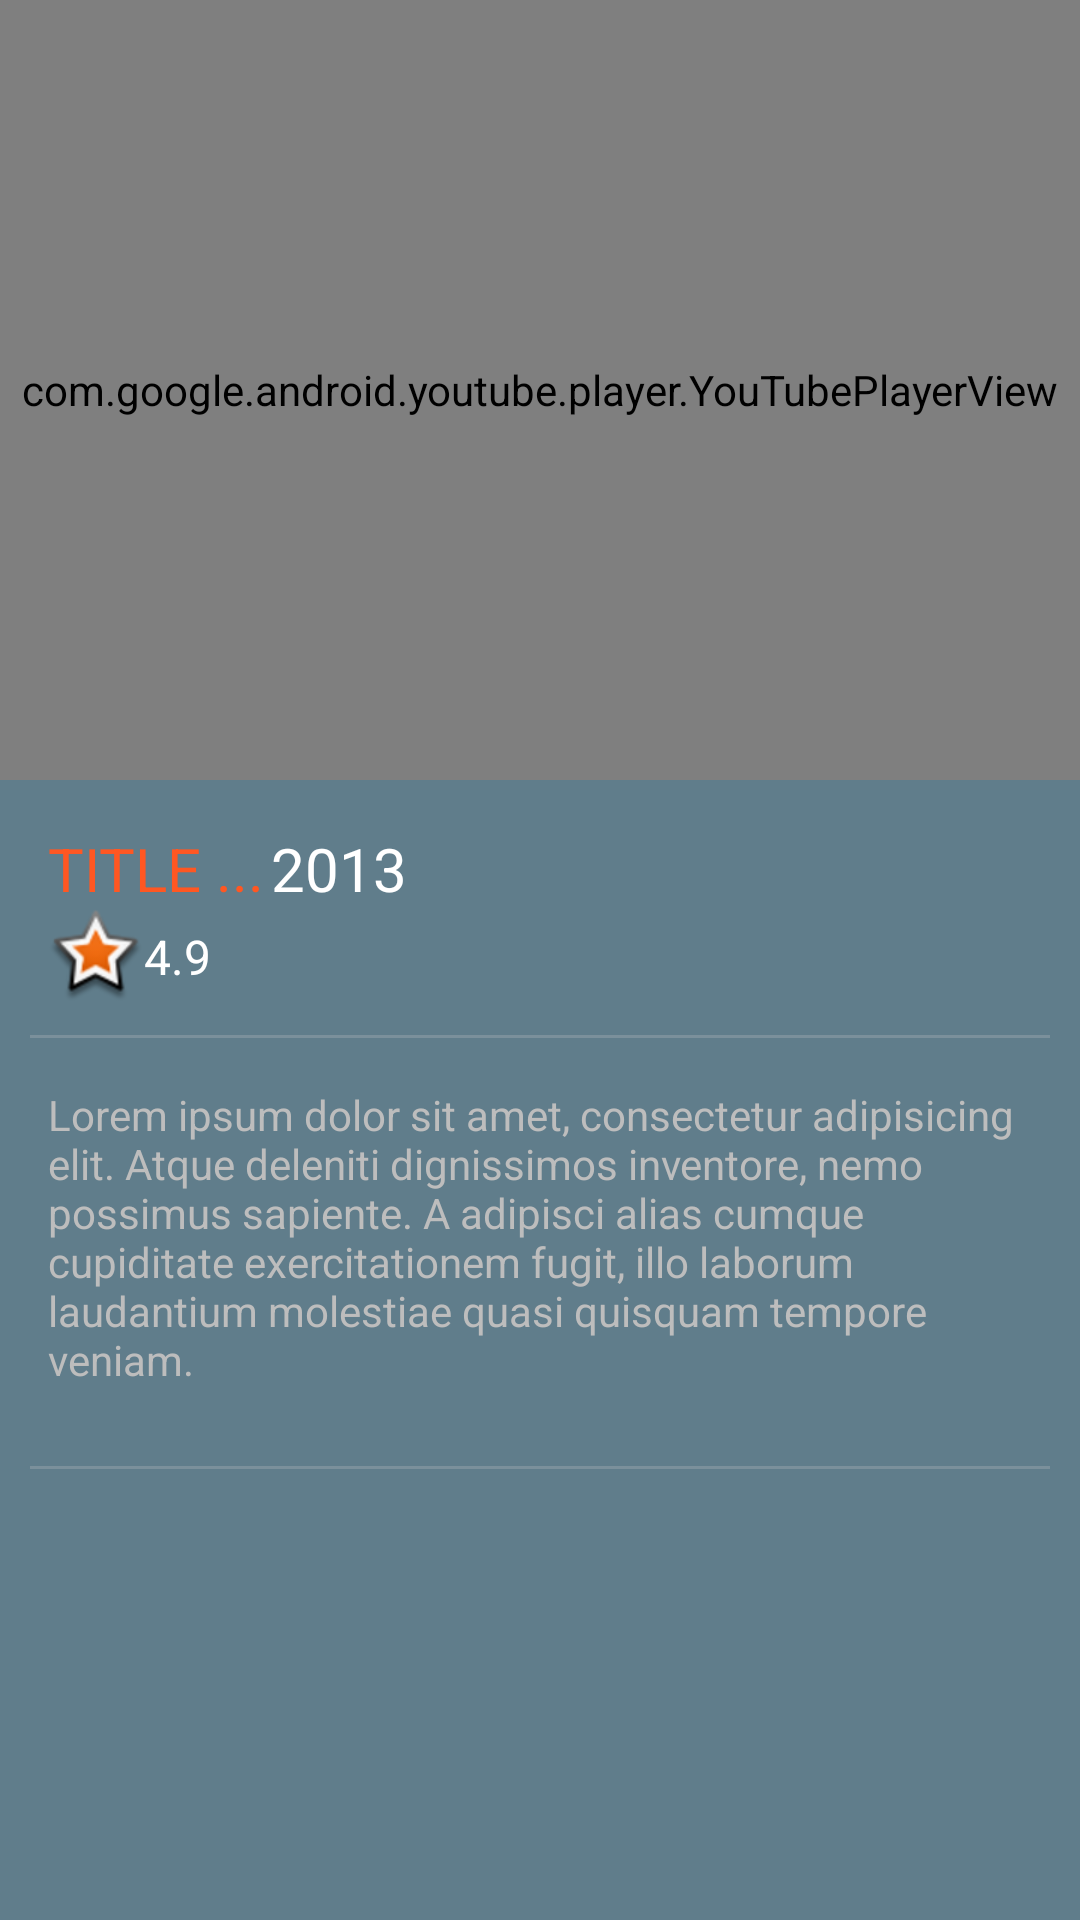

Icon bounding boxes for this 1080w x 1920h phone screenshot, format (x1, y1, x2, y2):
star on: (54, 912, 138, 996)
